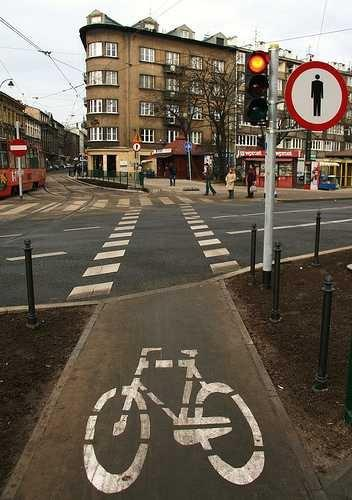red: (243, 44, 269, 123), (246, 48, 269, 76)
